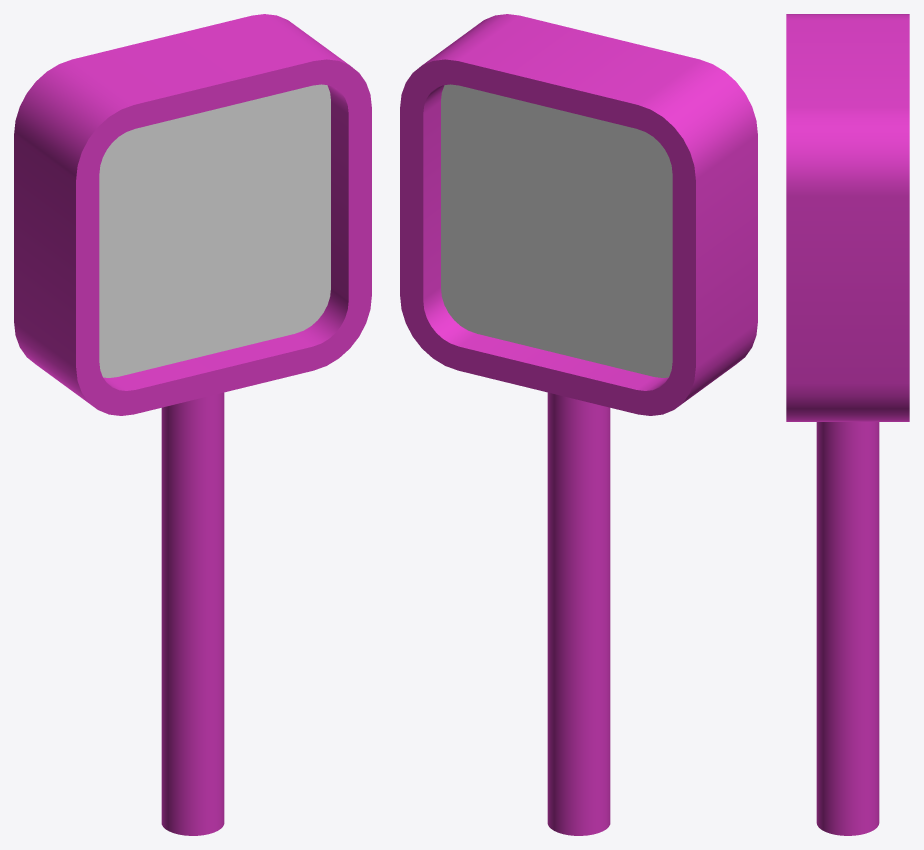
Rendered from Tablet.fbx.
The picture shows the model from 3 angles, left to right: view 1: azimuth 30°, elevation 25°; view 2: azimuth 150°, elevation 25°; view 3: azimuth 270°, elevation 25°; orthographic projection.
Parts seen in each view (by area): view 1: Cylinder; view 2: Cylinder; view 3: Cylinder.
Part boxes in pixels (bbox=[...]): Cylinder: bbox=[14, 14, 371, 835]; Cylinder: bbox=[400, 14, 757, 835]; Cylinder: bbox=[786, 14, 909, 835].
Bounding box in the file's own units: 200 × 493 × 72.69.
